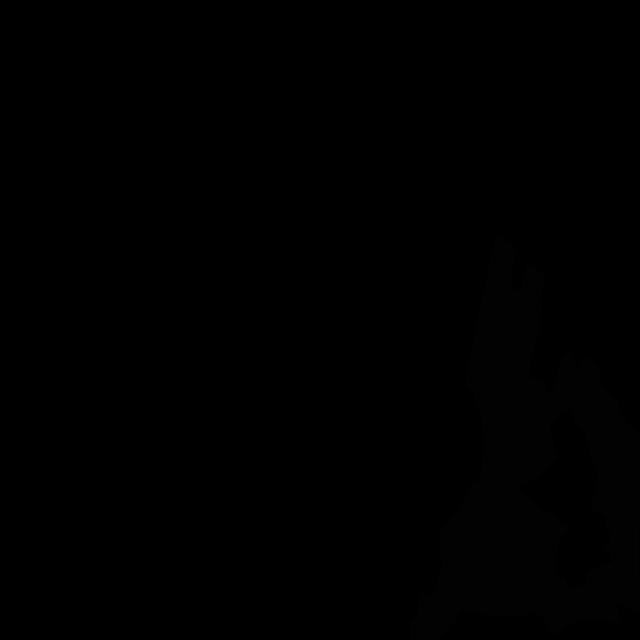cardboard: (465, 232, 640, 528), (409, 438, 640, 640)
